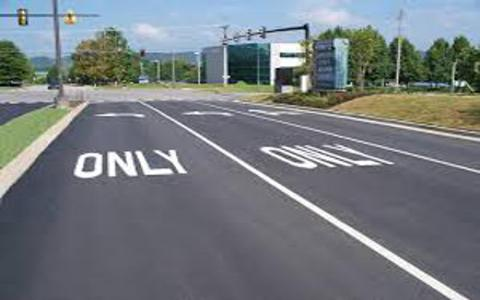Proper road: (37, 195, 314, 293), (377, 167, 465, 252)
